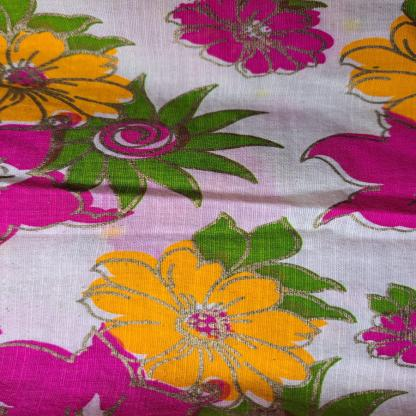spot: (330, 17, 371, 32), (102, 224, 126, 237), (253, 86, 275, 99)
